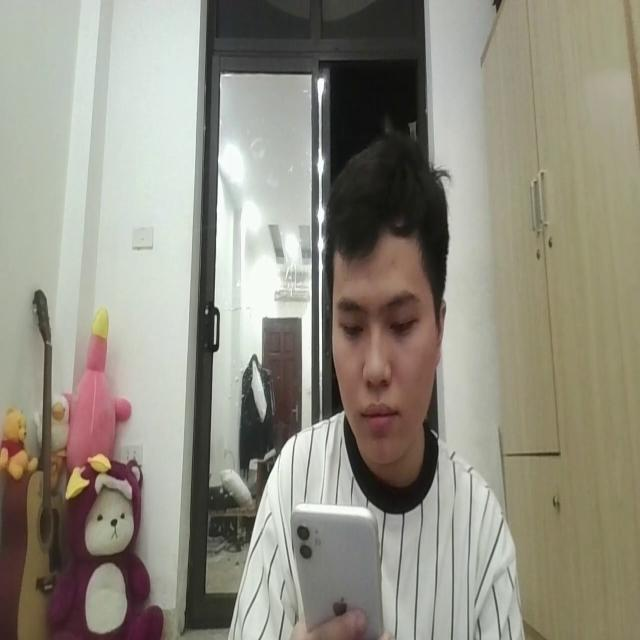phone: (290, 493, 383, 640)
student: (236, 124, 524, 640)
